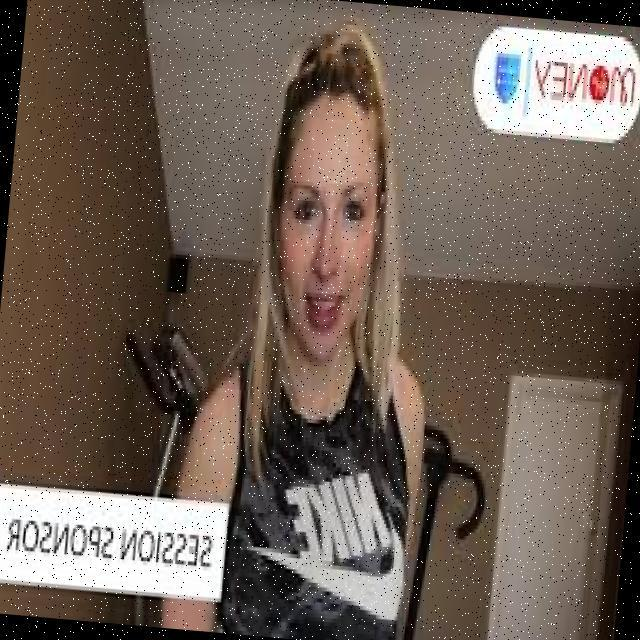Nike: (234, 500, 413, 636)
